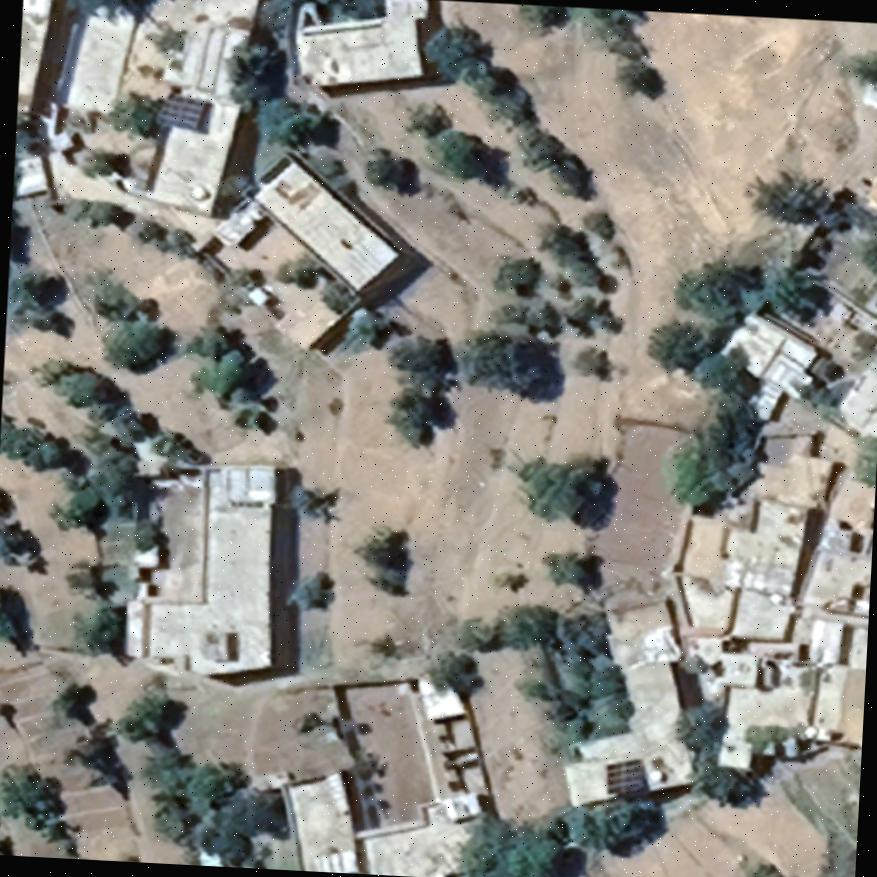Solarpanel: (600, 754, 654, 802), (154, 91, 208, 133)
